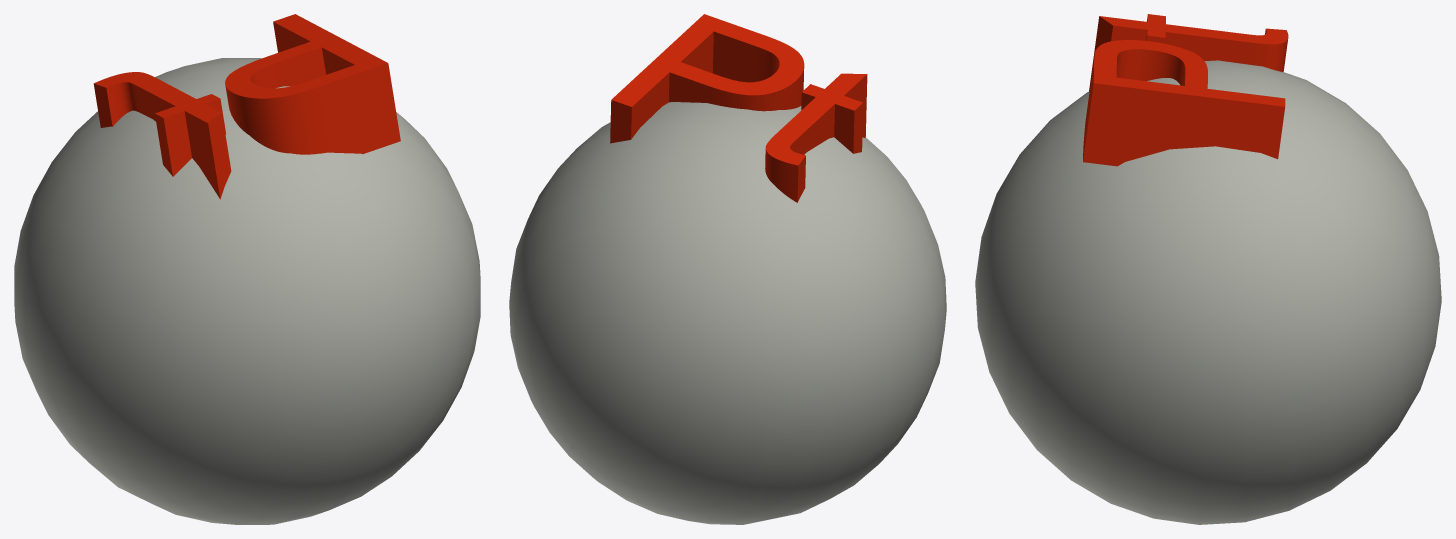
3 views of the same model, side by side, from view 1: azimuth 30°, elevation 25°; view 2: azimuth 150°, elevation 25°; view 3: azimuth 270°, elevation 25° (orthographic). The views are drawn at different scales.
Visible parts, largest first — view 1: Pt; view 2: Pt; view 3: Pt.
Boxes of the visible parts, bbox=[...] form: Pt: bbox=[14, 14, 480, 524]; Pt: bbox=[509, 14, 946, 524]; Pt: bbox=[975, 14, 1441, 524].
Size of the model in its own units: 38.63 by 42.09 by 38.72.
